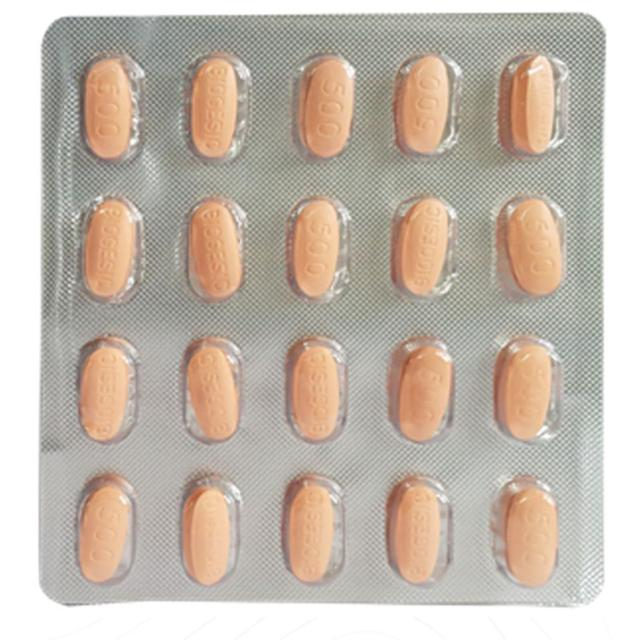blister: (36, 11, 614, 614)
